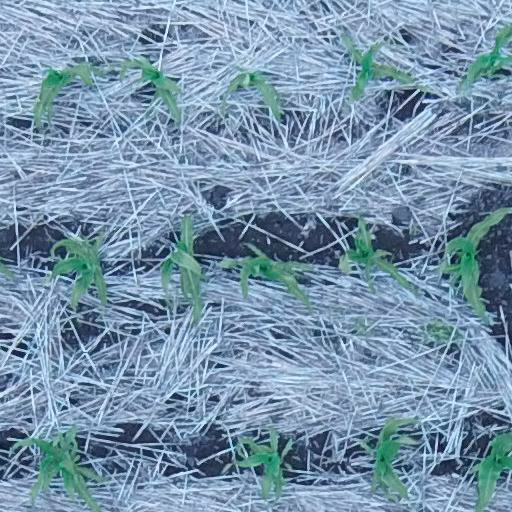planta: (345, 211, 422, 294), (343, 30, 427, 103), (32, 59, 109, 128), (223, 256, 316, 313), (159, 211, 204, 324), (116, 57, 183, 127), (50, 238, 107, 308), (370, 417, 418, 498), (236, 423, 282, 499), (224, 70, 282, 121)
